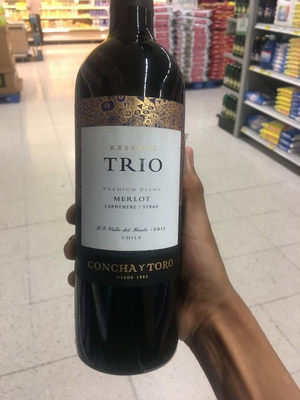trio merlot: (67, 2, 186, 370)
